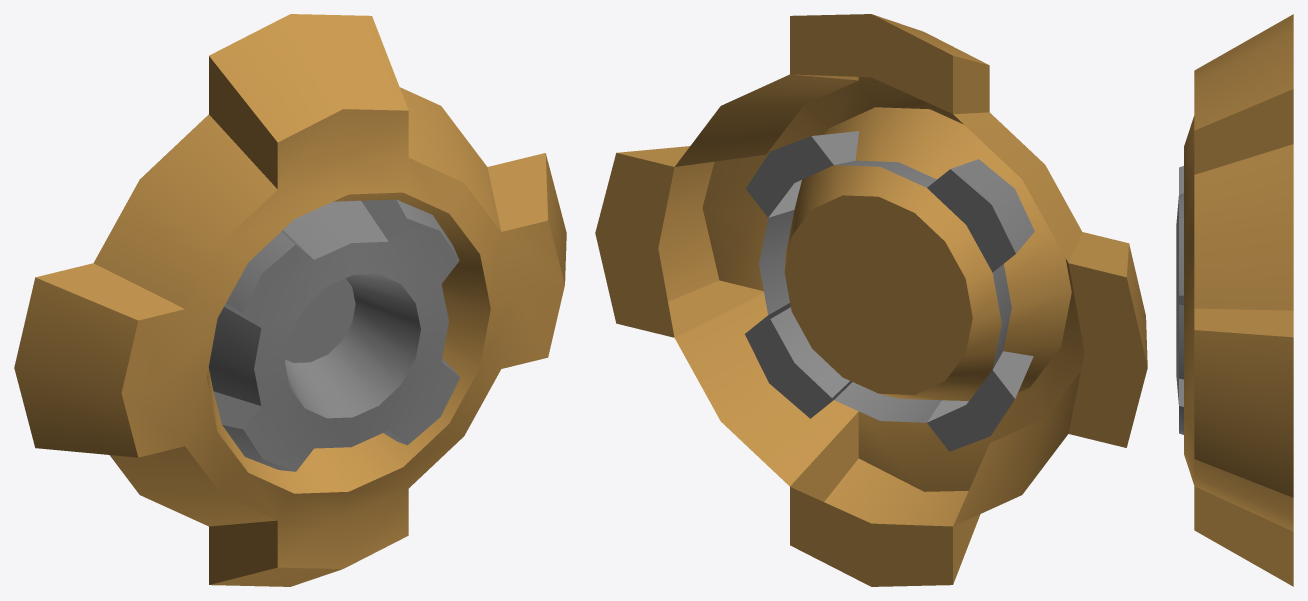
The model's file is Details_Output.gltf.
The picture shows the model from 3 angles, left to right: view 1: azimuth 30°, elevation 25°; view 2: azimuth 150°, elevation 25°; view 3: azimuth 270°, elevation 25°; orthographic projection. The views are drawn at different scales.
Parts seen in each view (by area): view 1: Details_Output; view 2: Details_Output; view 3: Details_Output.
Boxes of the visible parts, x1=… form: Details_Output: x1=14, y1=14, x2=566, y2=586; Details_Output: x1=595, y1=14, x2=1147, y2=586; Details_Output: x1=1176, y1=14, x2=1293, y2=586.
Size of the model in its own units: 0.2997 by 0.297 by 0.0587.
